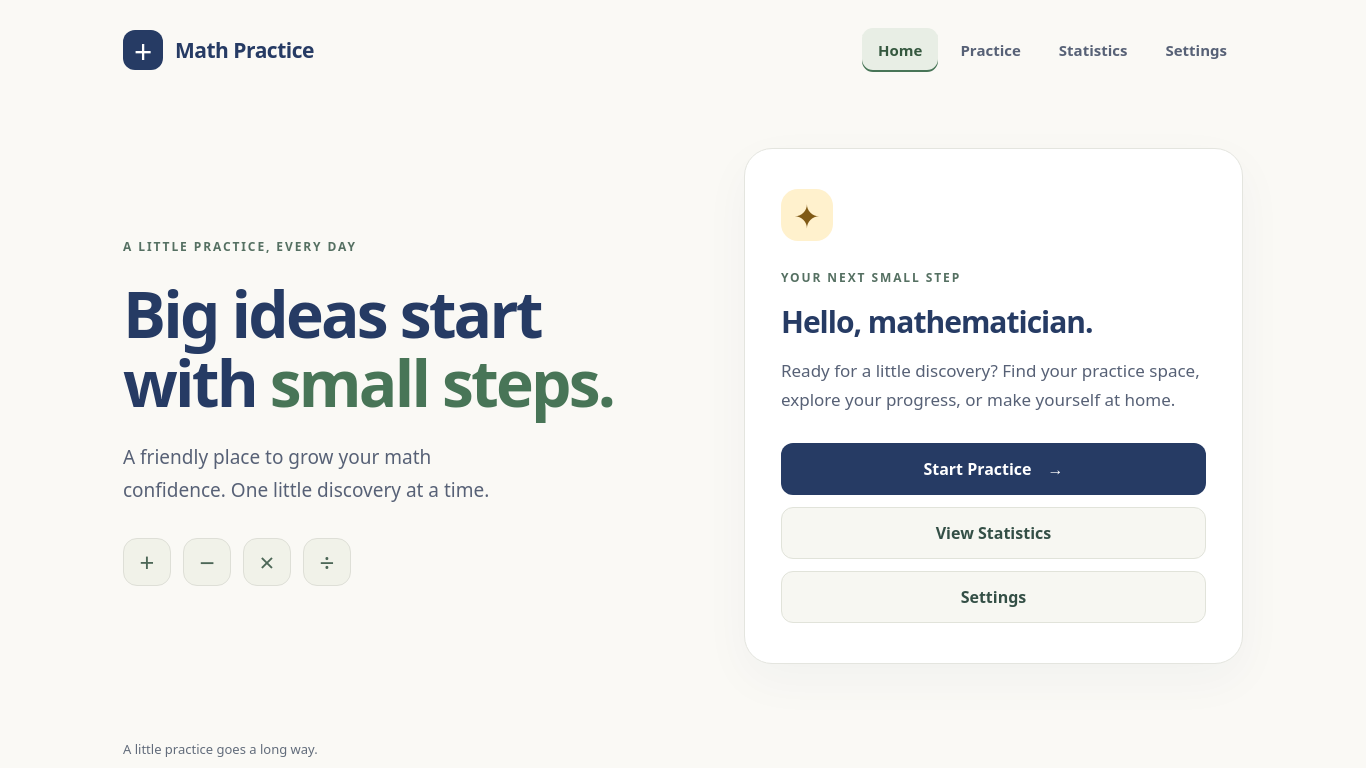
Scenario: Phase 2 pages and navigation › opens the correct page from the home action Settings
This screenshot has width=1366, height=768.
Click the link "Settings" below "View Statistics": (993, 597) [781,571,1206,623]
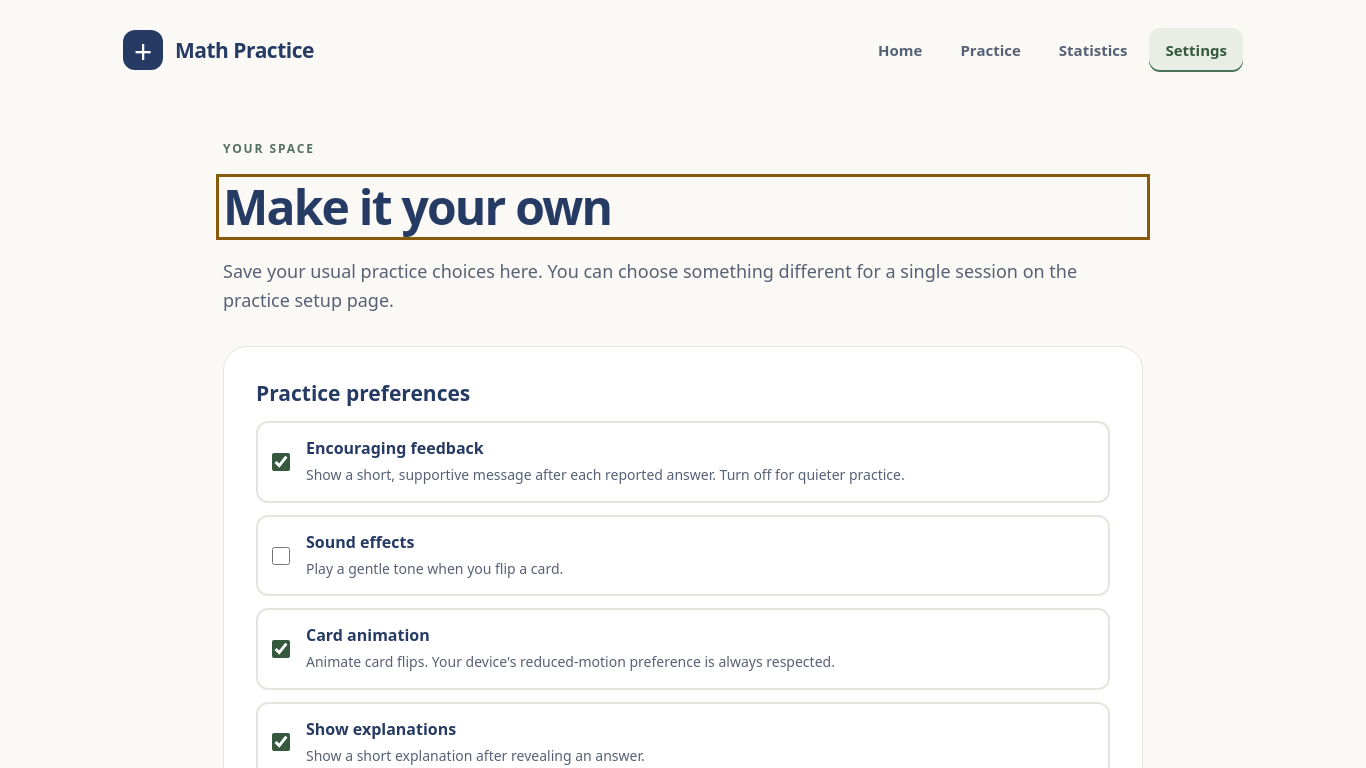
Expected: the heading "Make it your own" is shown, [223,174,611,239]
